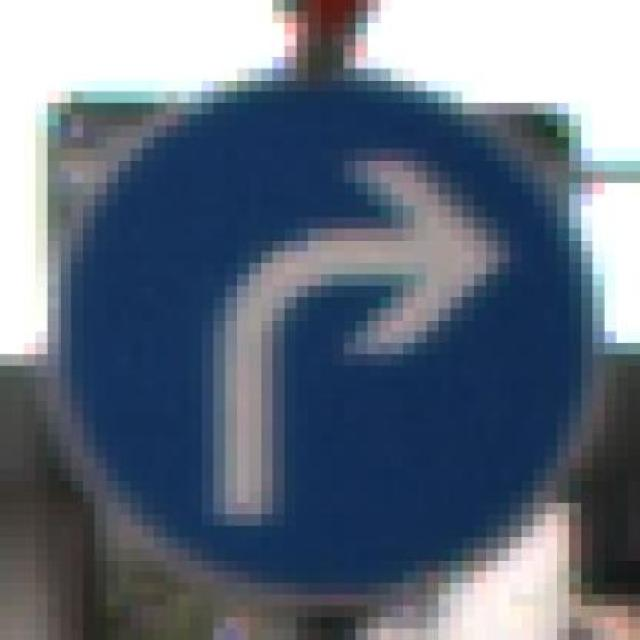Turn right ahead: (24, 69, 616, 606)
